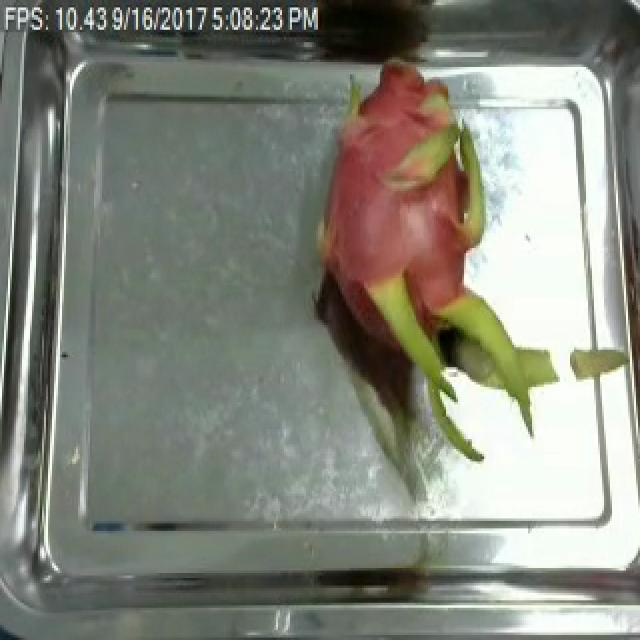fruit: (298, 67, 570, 481)
